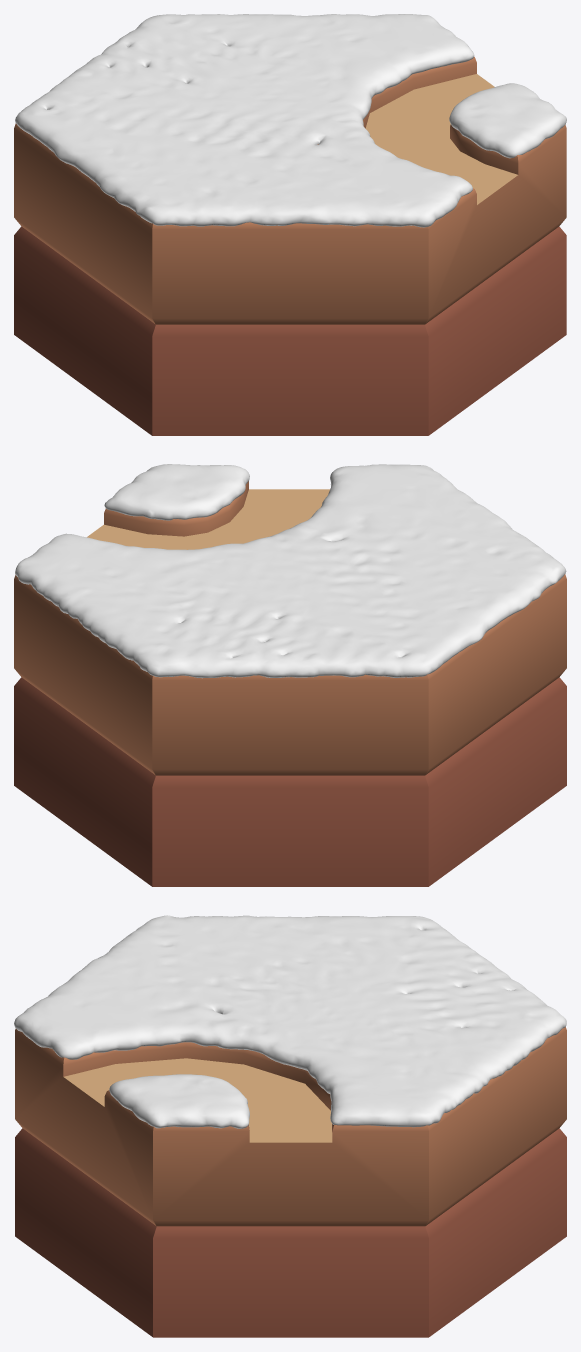
File: hex_rock_roadC_detail.fbx
The picture shows the model from 3 angles, top to bottom: view 1: azimuth 30°, elevation 25°; view 2: azimuth 150°, elevation 25°; view 3: azimuth 270°, elevation 25°; orthographic projection.
Visible parts, largest first — view 1: SnowBall.001, hex_rock_roadC_detail.001, hex_rock_roadC_detail.002, hex_rock_roadC_detail; view 2: SnowBall.001, hex_rock_roadC_detail.001, hex_rock_roadC_detail.002, hex_rock_roadC_detail; view 3: SnowBall.001, hex_rock_roadC_detail.001, hex_rock_roadC_detail.002, hex_rock_roadC_detail.
Part boxes in pixels (x1=…): SnowBall.001: x1=15, y1=14, x2=566, y2=227; hex_rock_roadC_detail.001: x1=14, y1=226, x2=566, y2=435; hex_rock_roadC_detail.002: x1=14, y1=57, x2=566, y2=324; hex_rock_roadC_detail: x1=365, y1=74, x2=517, y2=204; SnowBall.001: x1=15, y1=464, x2=566, y2=678; hex_rock_roadC_detail.001: x1=14, y1=677, x2=566, y2=886; hex_rock_roadC_detail.002: x1=14, y1=481, x2=566, y2=775; hex_rock_roadC_detail: x1=87, y1=489, x2=329, y2=549; SnowBall.001: x1=14, y1=915, x2=566, y2=1128; hex_rock_roadC_detail.001: x1=15, y1=1128, x2=566, y2=1337; hex_rock_roadC_detail.002: x1=15, y1=1027, x2=566, y2=1226; hex_rock_roadC_detail: x1=64, y1=1058, x2=332, y2=1142.
Size of the model in its own units: 203 by 103 by 231.
